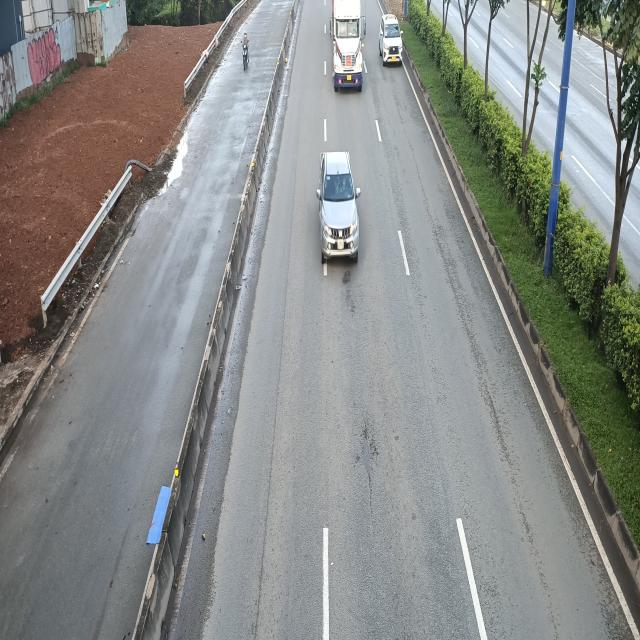car: (318, 153, 362, 263), (378, 14, 403, 66)
container: (329, 0, 367, 92)
